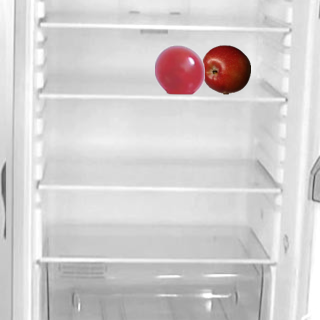Apple Braeburn: (200, 44, 250, 94)
Redcurrant: (154, 44, 204, 94)
